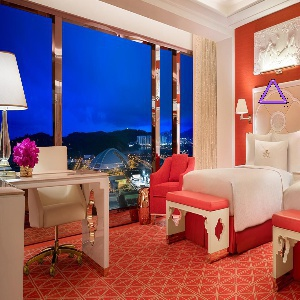triangle: (255, 76, 290, 109)
